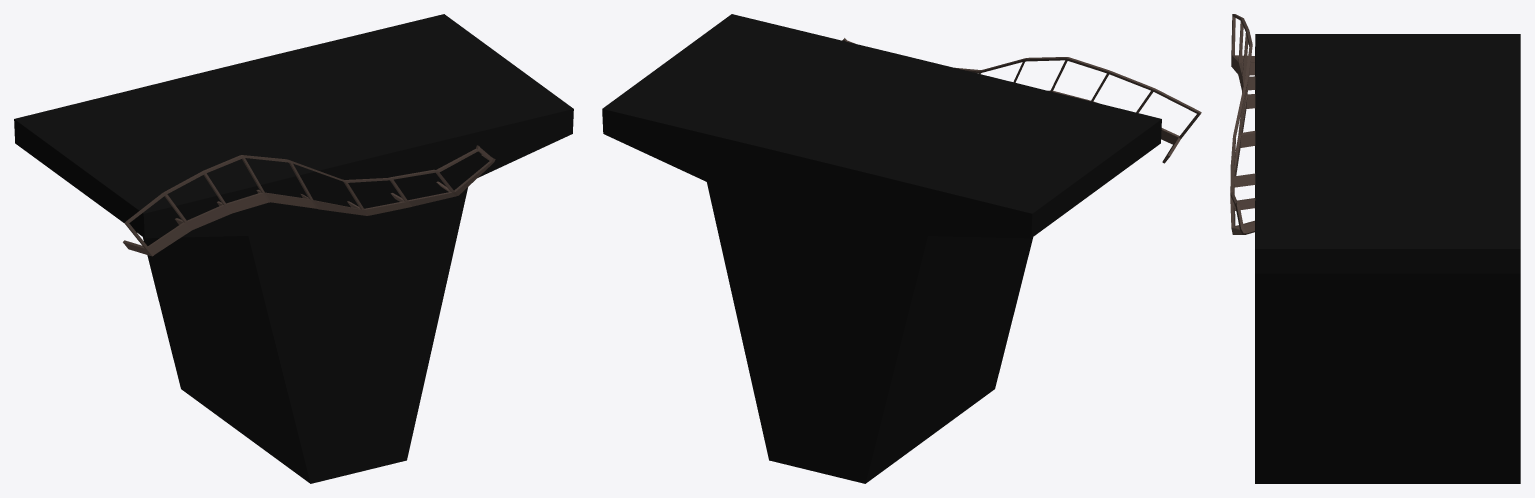
The model's file is ground 4.fbx.
3 views of the same model, side by side, from view 1: azimuth 30°, elevation 25°; view 2: azimuth 150°, elevation 25°; view 3: azimuth 270°, elevation 25° (orthographic). The views are drawn at different scales.
Visible parts, largest first — view 1: ground 4; view 2: ground 4; view 3: ground 4.
Boxes of the visible parts, x1,y1,x2,y2 form: ground 4: (14,14,573,483); ground 4: (602,14,1201,483); ground 4: (1230,14,1520,483).
Bounding box in the file's own units: 1082 × 782 × 579.
